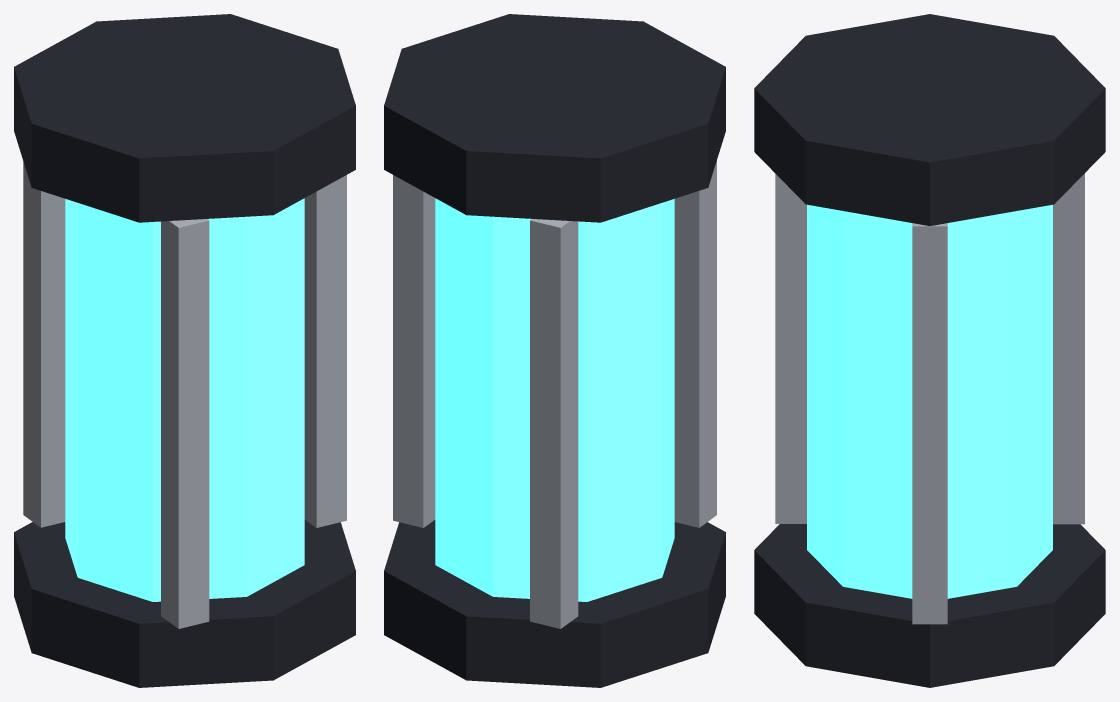
File: energy_cell.fbx
The picture shows the model from 3 angles, left to right: view 1: azimuth 30°, elevation 25°; view 2: azimuth 150°, elevation 25°; view 3: azimuth 270°, elevation 25°; orthographic projection.
Parts seen in each view (by area): view 1: energy_cell; view 2: energy_cell; view 3: energy_cell.
Boxes of the visible parts, x1=… form: energy_cell: x1=14, y1=14, x2=355, y2=687; energy_cell: x1=384, y1=14, x2=725, y2=687; energy_cell: x1=754, y1=14, x2=1105, y2=687.
Bounding box in the file's own units: 0.2 × 0.33 × 0.2.
